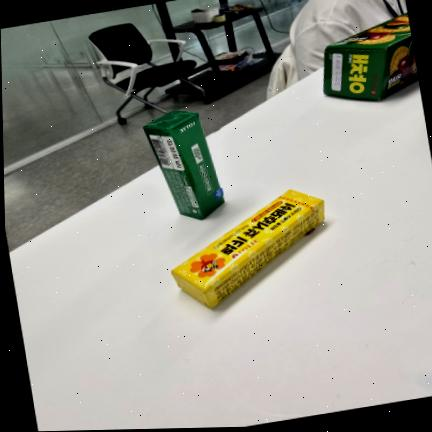gum_green: (143, 110, 224, 219)
gum_yellow: (171, 190, 324, 308)
